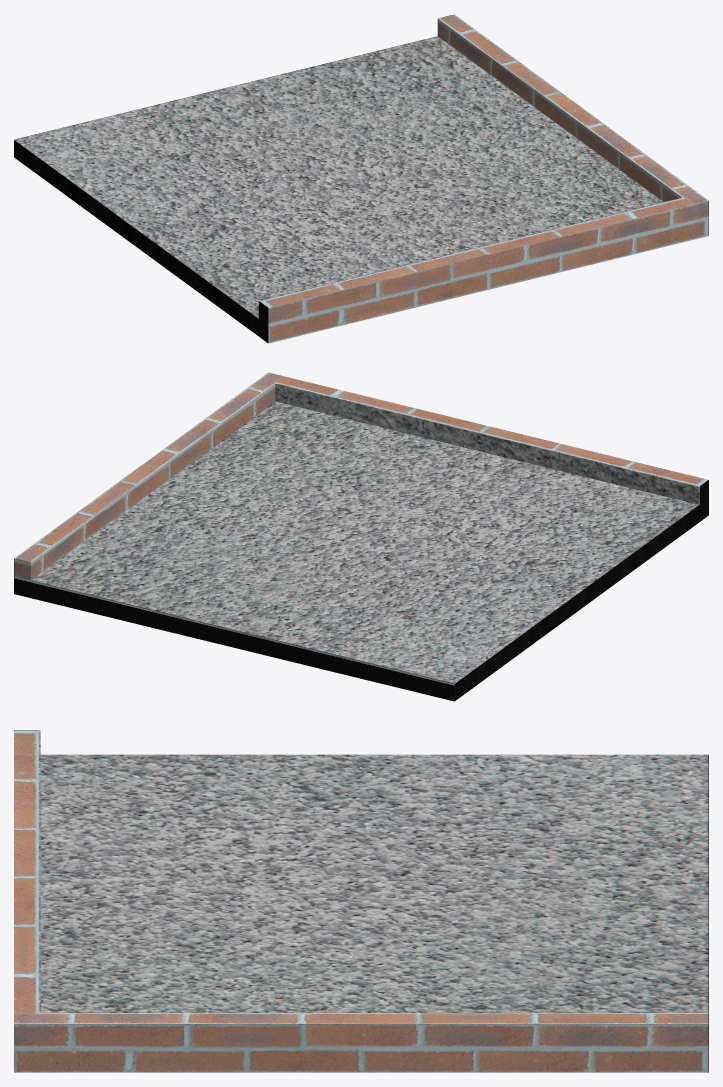
Rendered from roofcorner.fbx.
3 renders of one model, top to bottom at view 1: azimuth 30°, elevation 25°; view 2: azimuth 150°, elevation 25°; view 3: azimuth 270°, elevation 25°, orthographic. The views are drawn at different scales.
Parts seen in each view (by area): view 1: roofcorner; view 2: roofcorner; view 3: roofcorner.
Boxes of the visible parts, bbox=[...] form: roofcorner: bbox=[14, 14, 708, 343]; roofcorner: bbox=[14, 372, 708, 701]; roofcorner: bbox=[14, 730, 708, 1072].
Size of the model in its own units: 2.6 by 0.2 by 2.6.
Materials: 1 (1 with a texture image).
